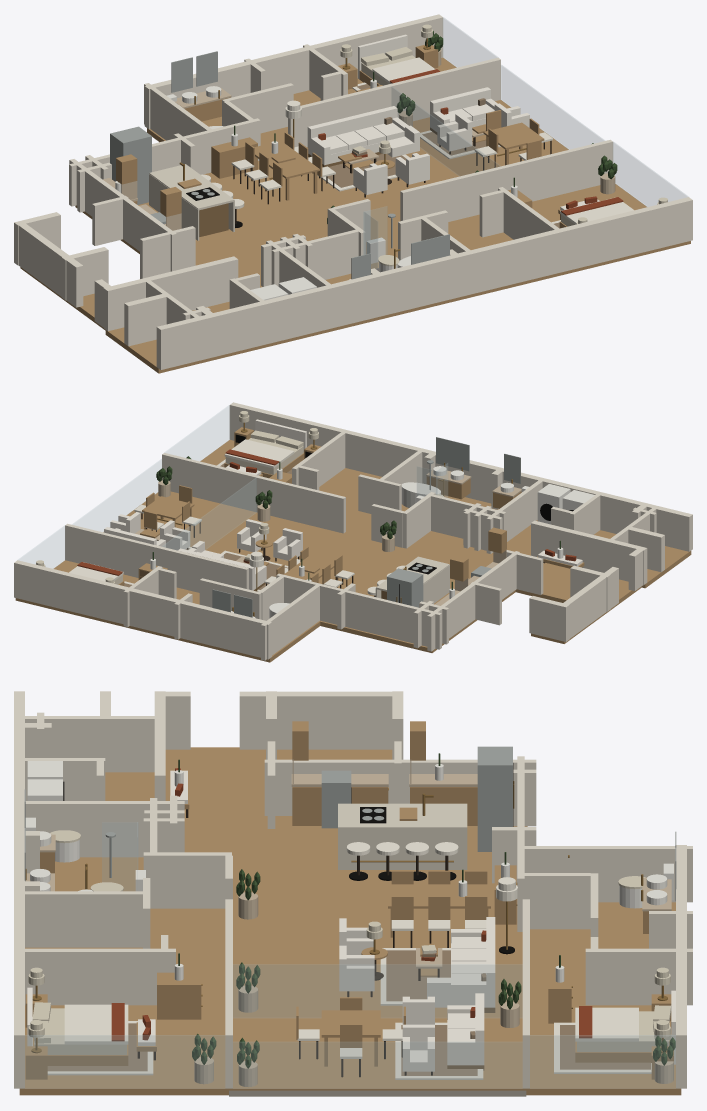
The picture shows the model from 3 angles, top to bottom: view 1: azimuth 30°, elevation 25°; view 2: azimuth 150°, elevation 25°; view 3: azimuth 270°, elevation 25°; orthographic projection. The views are drawn at different scales.
Bounding box in the file's own units: 55.46 × 7.7 × 46.19.
